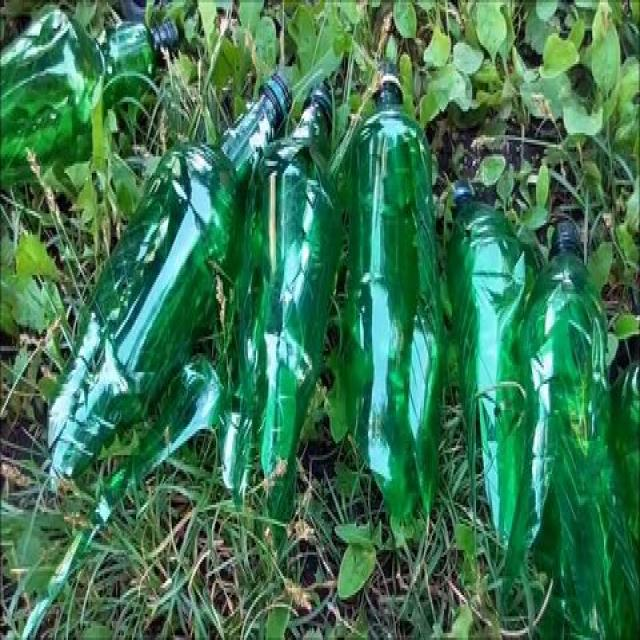green: (49, 71, 291, 488), (224, 76, 336, 515), (332, 66, 436, 532), (525, 239, 640, 640), (0, 2, 181, 184), (444, 178, 526, 560)
